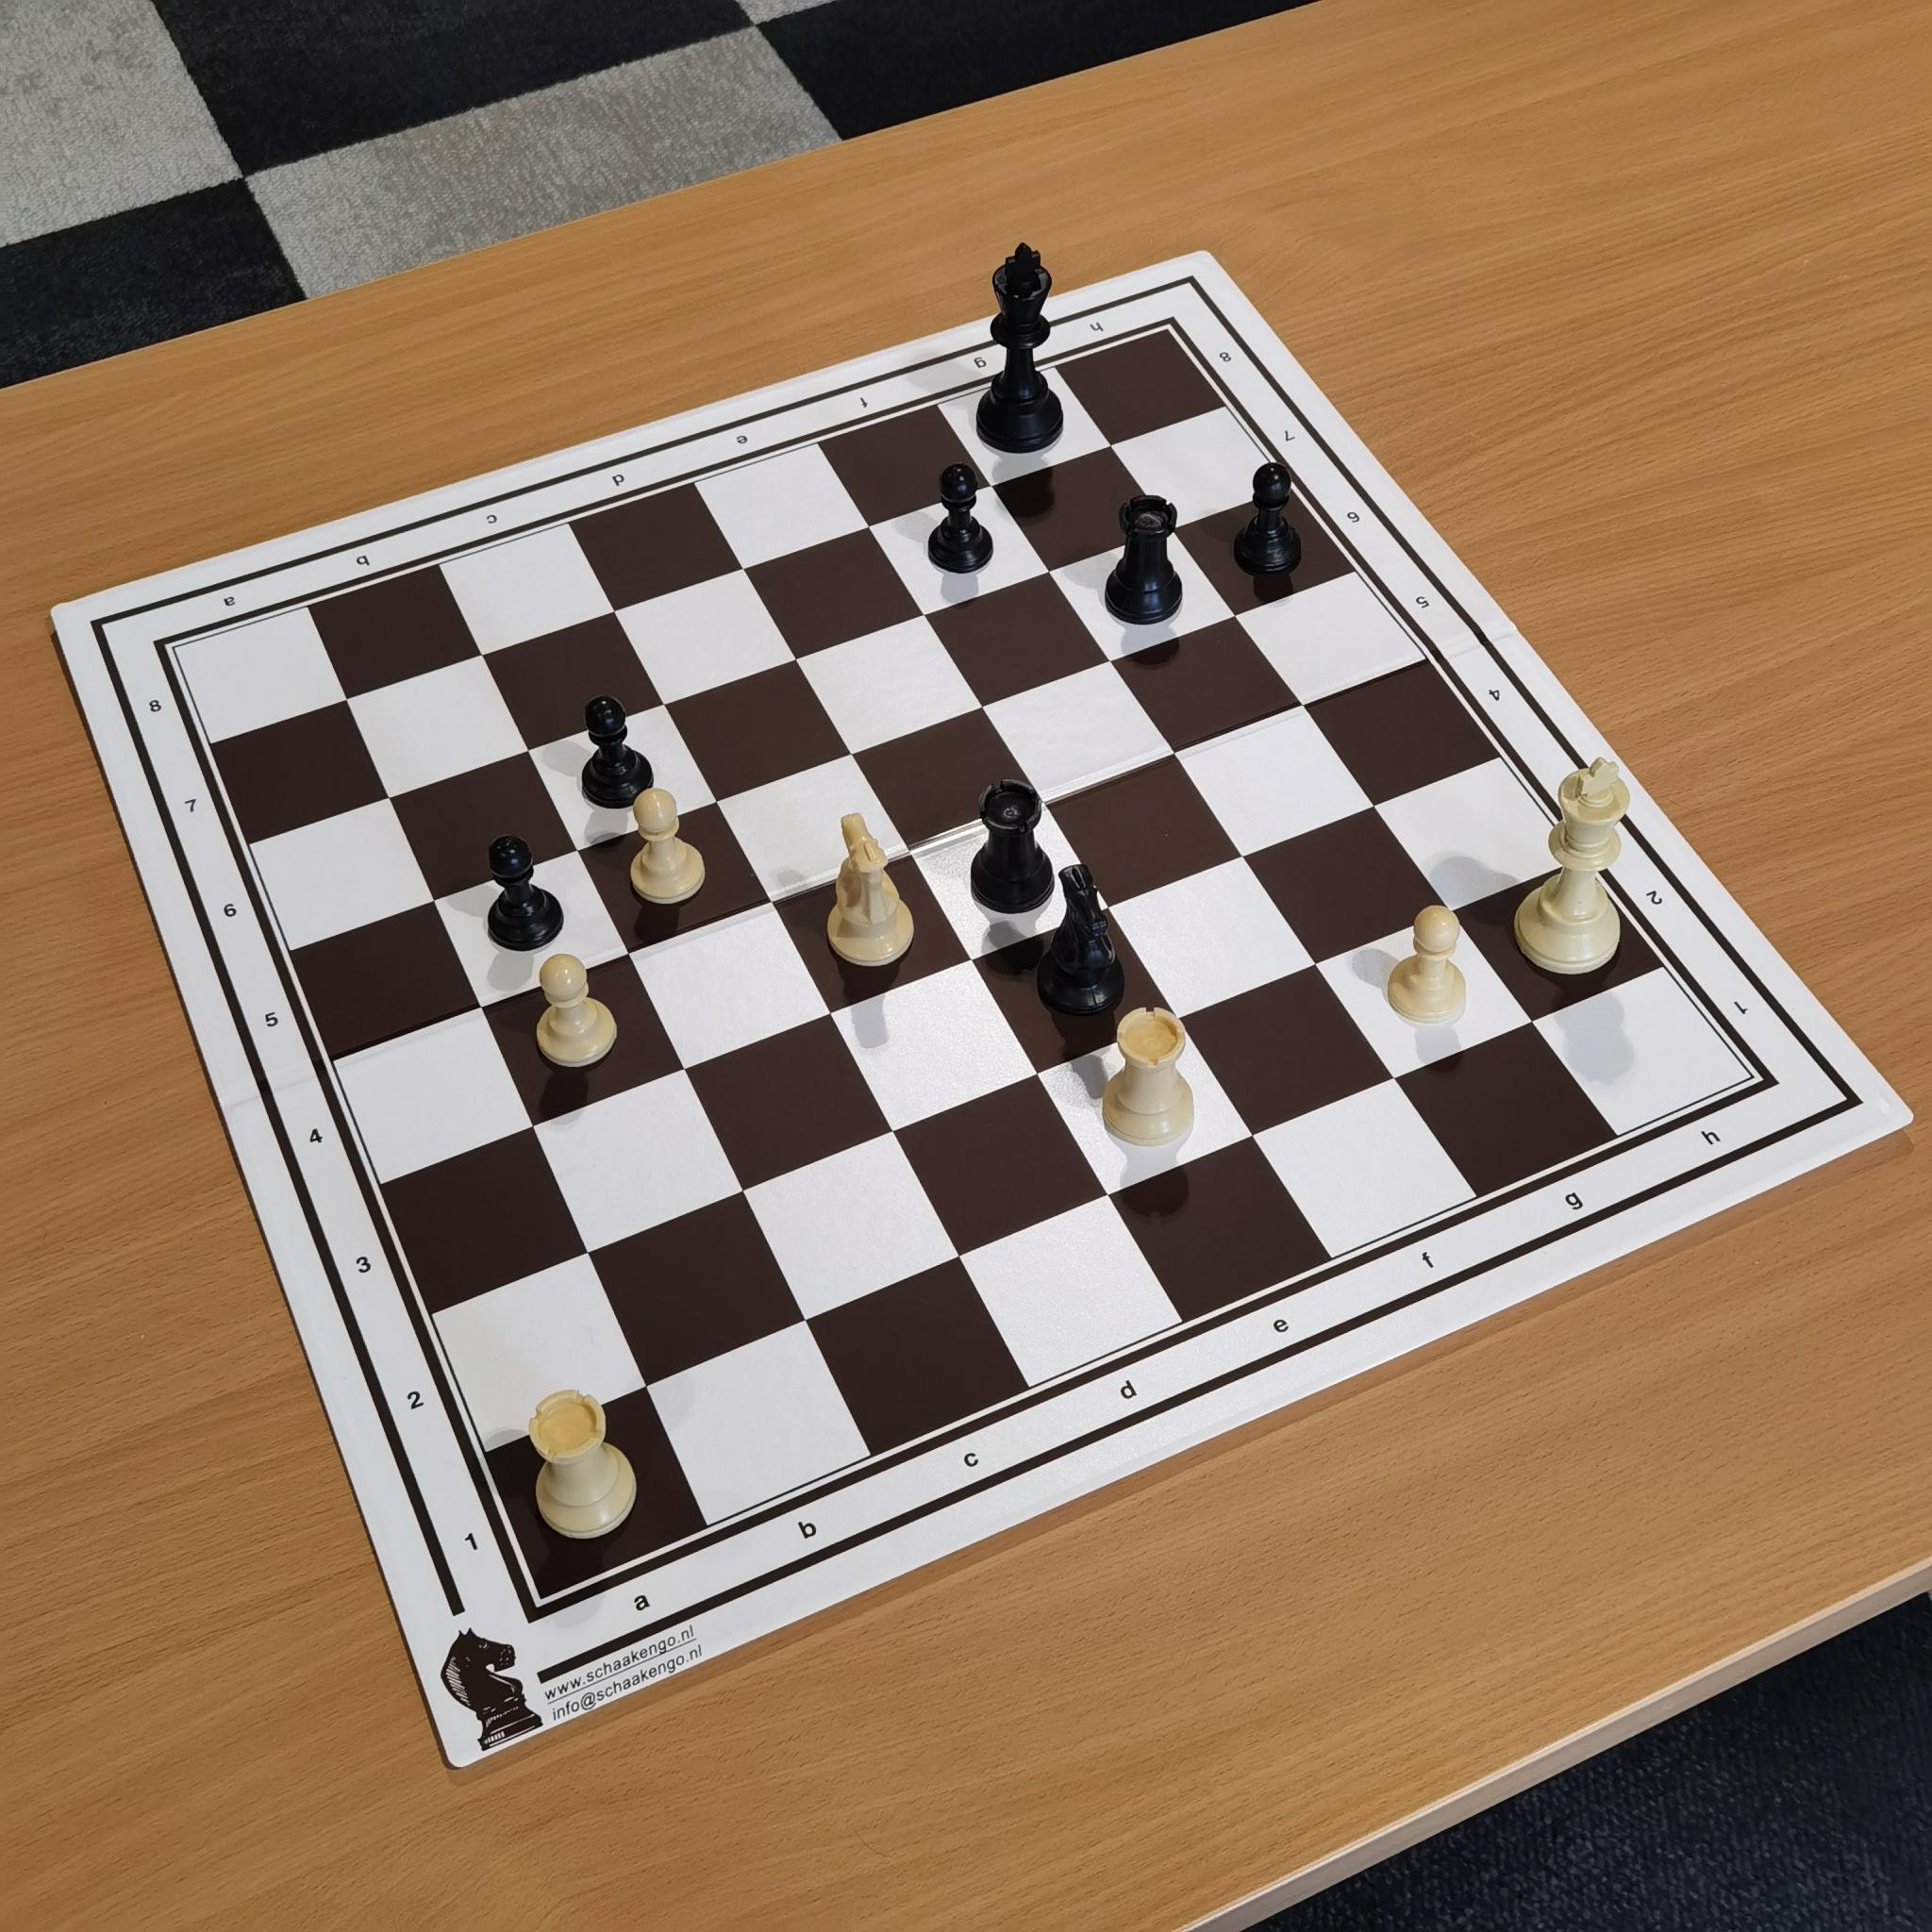corners: (1718, 1040, 1783, 1109), (513, 1573, 573, 1631), (1145, 313, 1203, 363), (156, 623, 200, 672)
eight: (131, 681, 173, 732), (1210, 340, 1242, 380)
one: (451, 1511, 510, 1583), (1714, 980, 1764, 1030)
